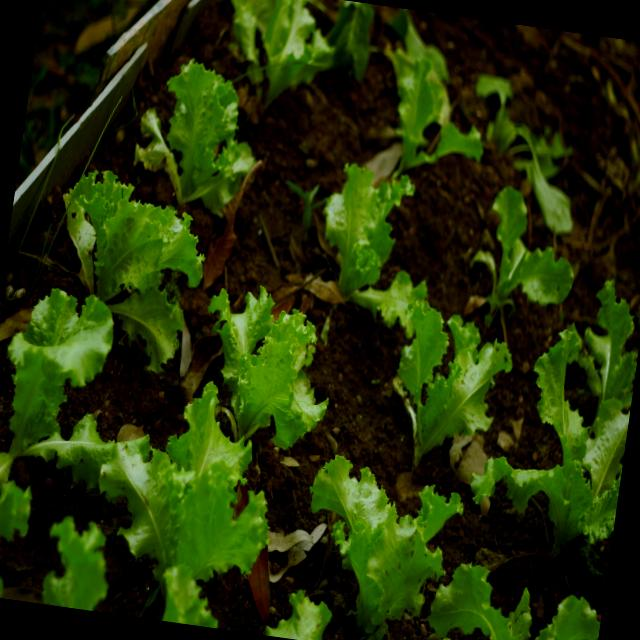inmadura: (99, 382, 268, 628), (64, 171, 204, 372), (311, 455, 463, 640), (209, 286, 328, 447), (135, 60, 255, 215), (398, 302, 512, 465)
verde: (324, 164, 414, 299)
